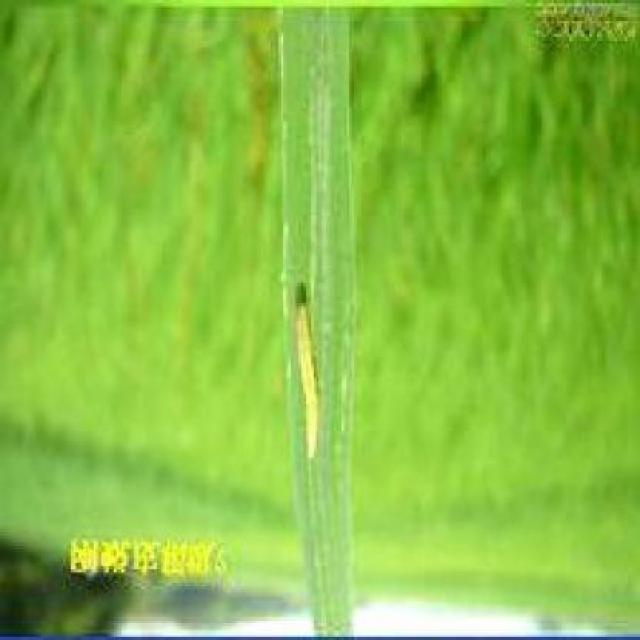leaf-folder: (282, 283, 343, 474)
